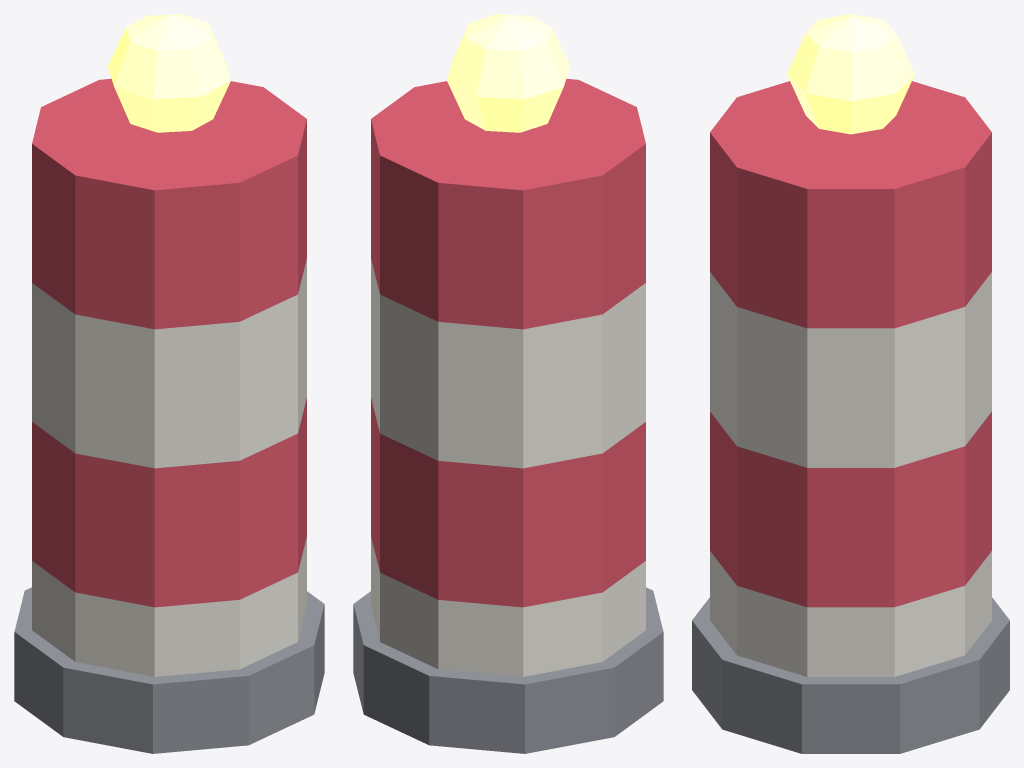
File: arena_bumper_post.glb
3 views of the same model, side by side, from view 1: azimuth 30°, elevation 25°; view 2: azimuth 150°, elevation 25°; view 3: azimuth 270°, elevation 25° (orthographic).
Parts seen in each view (by area): view 1: arena_bumper_post; view 2: arena_bumper_post; view 3: arena_bumper_post.
Part boxes in pixels (bbox=[...]): arena_bumper_post: bbox=[14, 14, 324, 753]; arena_bumper_post: bbox=[353, 14, 663, 753]; arena_bumper_post: bbox=[692, 14, 1009, 753].
Bounding box in the file's own units: 1.18 × 2.9 × 1.24.
